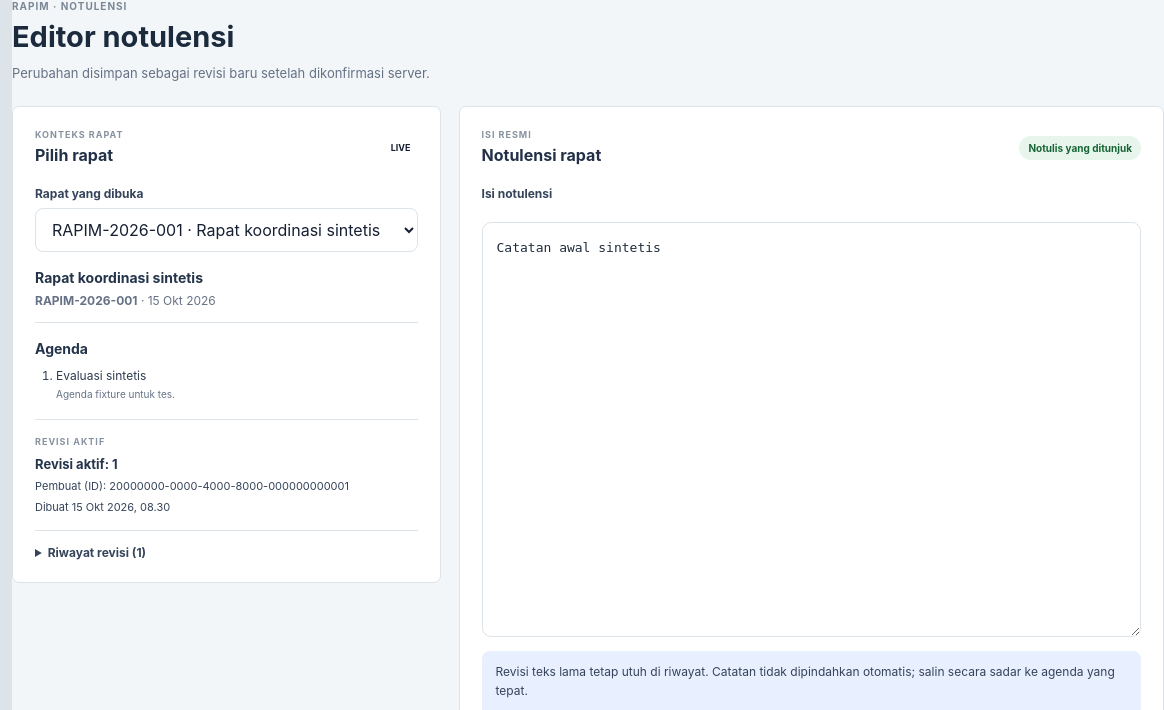
it: MinutesEditor › distinguishes a 409 for a meeting that is no longer LIVE and refreshes its status
Replace the text in the text box labelled "Isi notulensi" with "Draf ketika rapat ditutup" at (811,429), box top-left (482, 222), bottom-right (1141, 637)
(page scrolled)
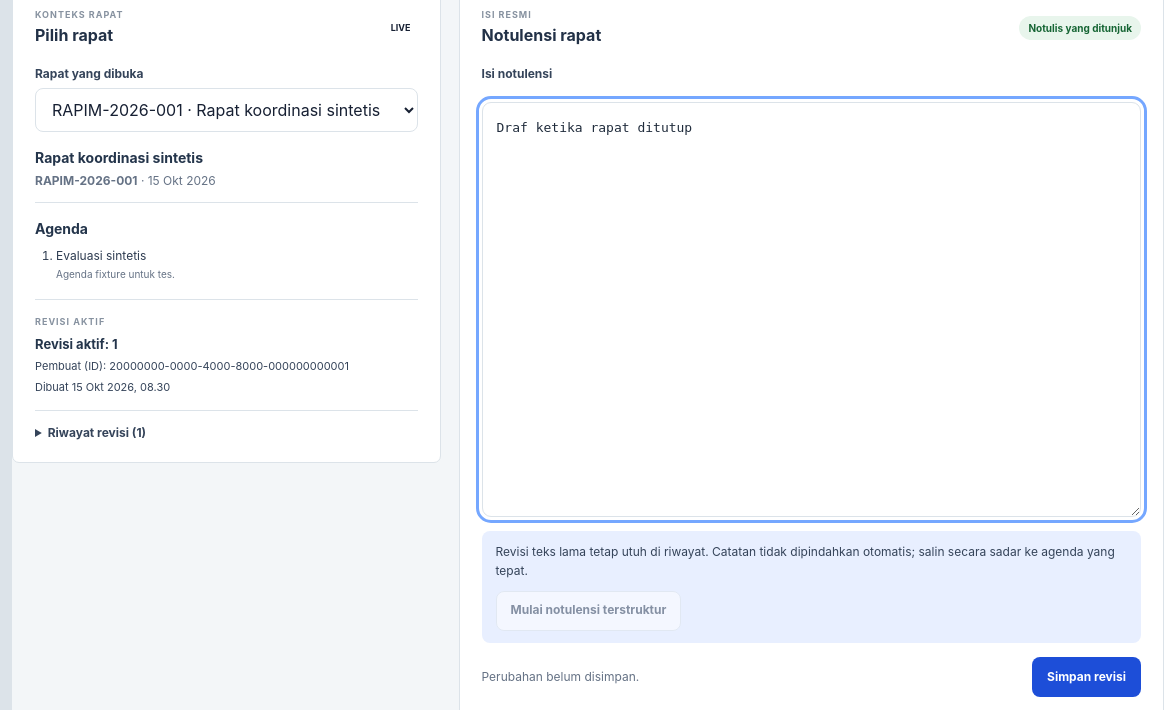
Click the button "Simpan revisi" at (1086,677), box top-left (1032, 657), bottom-right (1141, 697)
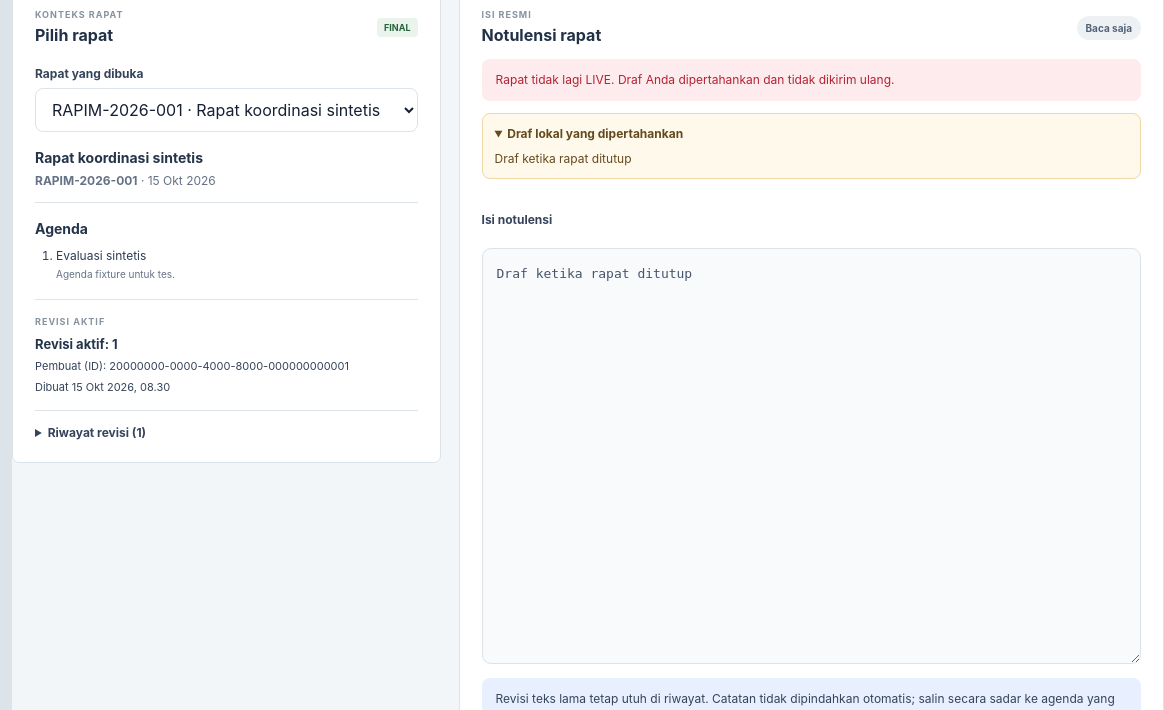
Check: the message reads "Rapat tidak lagi LIVE. Draf Anda dipertahankan dan tidak dikirim ulang.", box top-left (496, 72), bottom-right (894, 86)
Check: the text "FINAL" is shown, box top-left (377, 18), bottom-right (418, 37)
Check: the text box labelled "Isi notulensi" is disabled, box top-left (482, 248), bottom-right (1141, 664)
